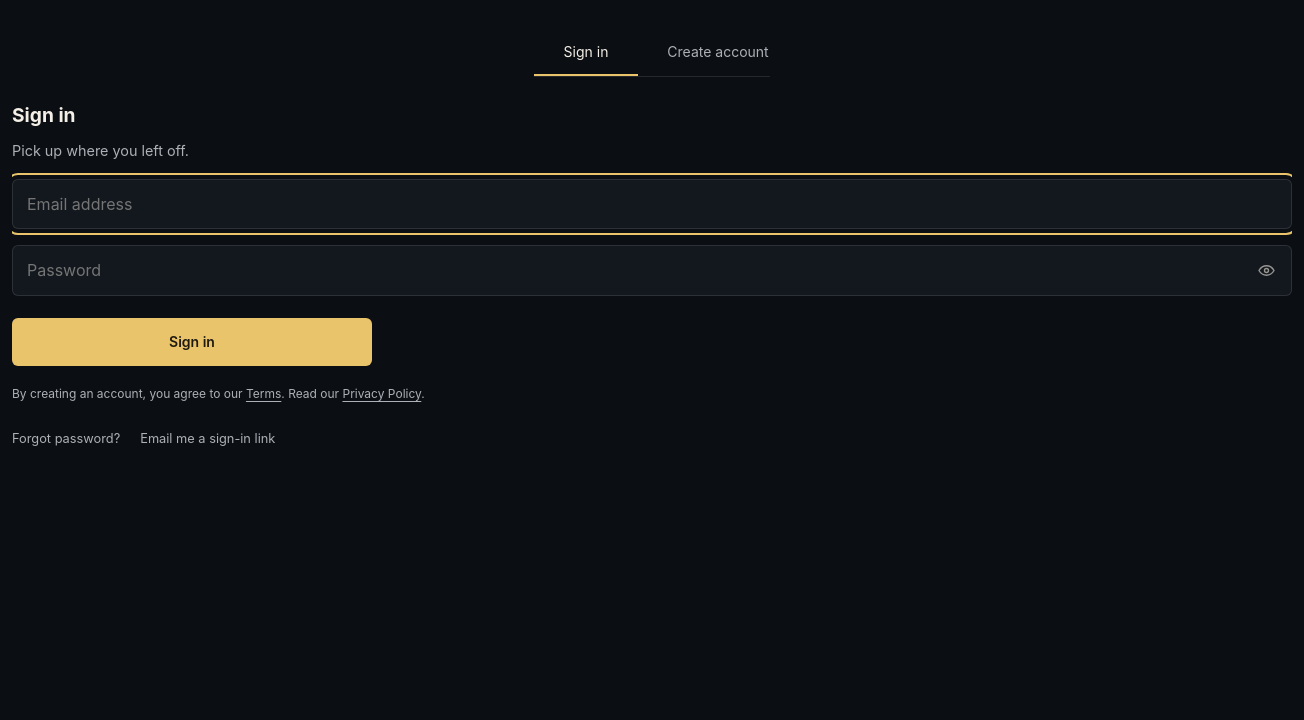
Test case: switching auth states clears the previous error
This screenshot has width=1304, height=720.
Type "viewer@example.com" into the field labelled "Email address" at (652, 204), box [12,178,1292,229]
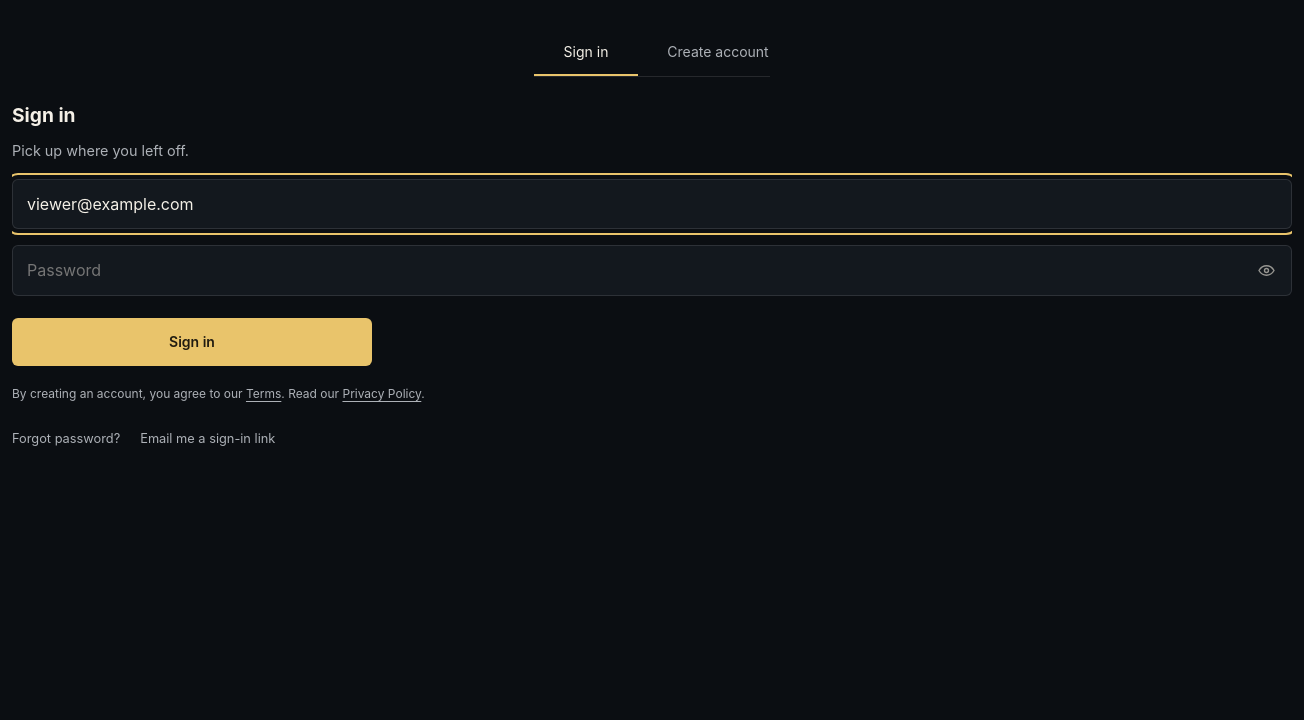
Type "password1" into the password field labelled "Password" at (652, 271), box [12,245,1292,296]
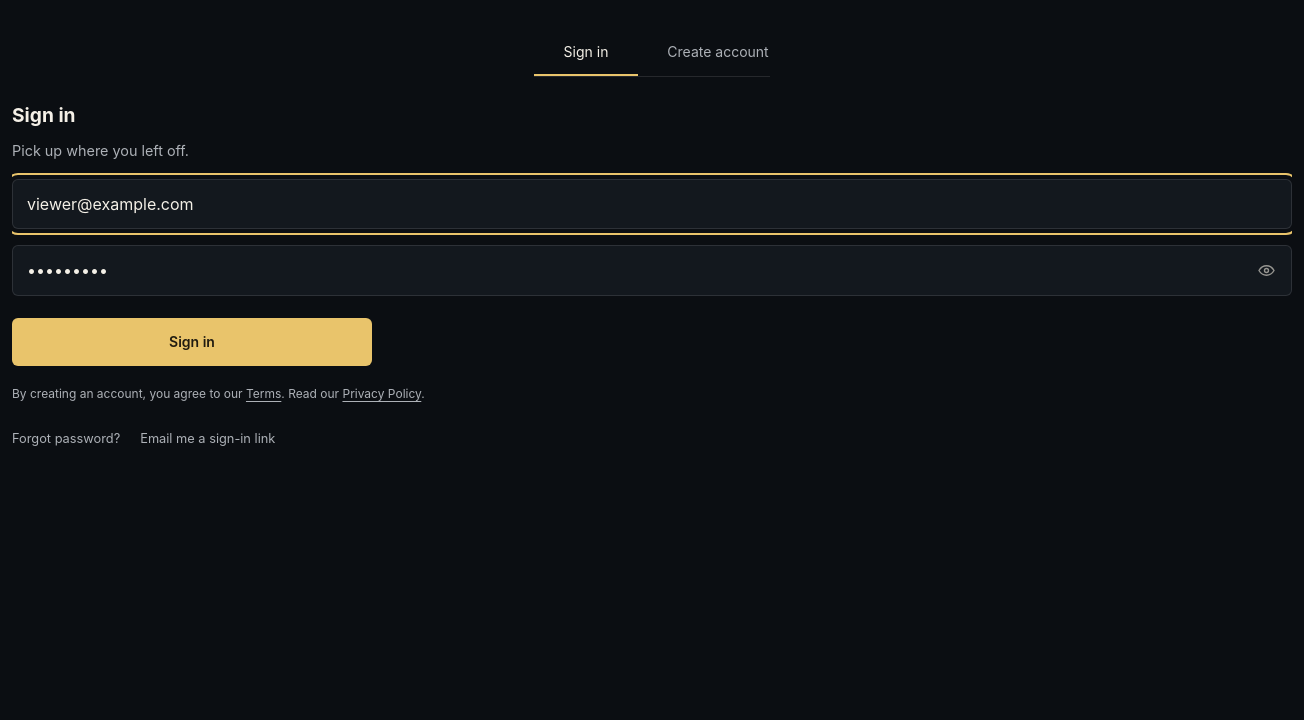
Click the button "Sign in" at (192, 342), box [12,318,372,366]
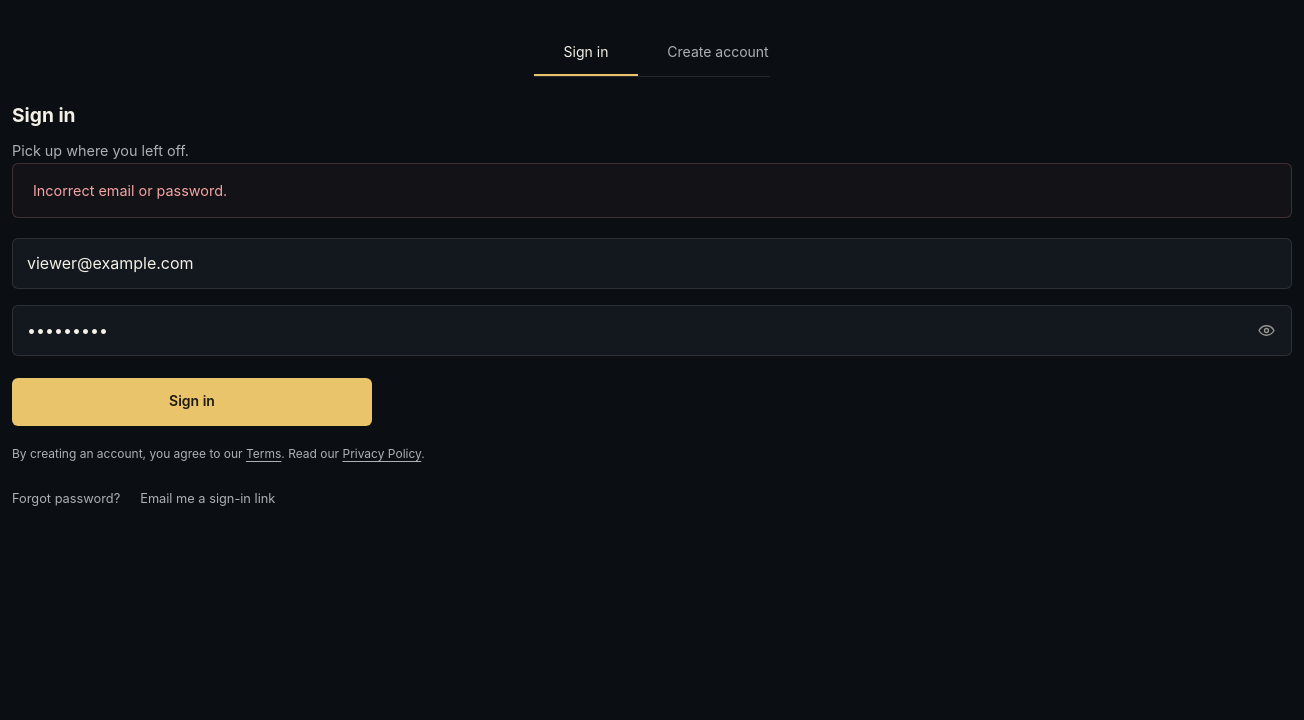
Now the text "Incorrect email or password." is shown, box [12,162,1292,218]
Click the tab "Create account" at (718, 52), box [666,28,770,76]
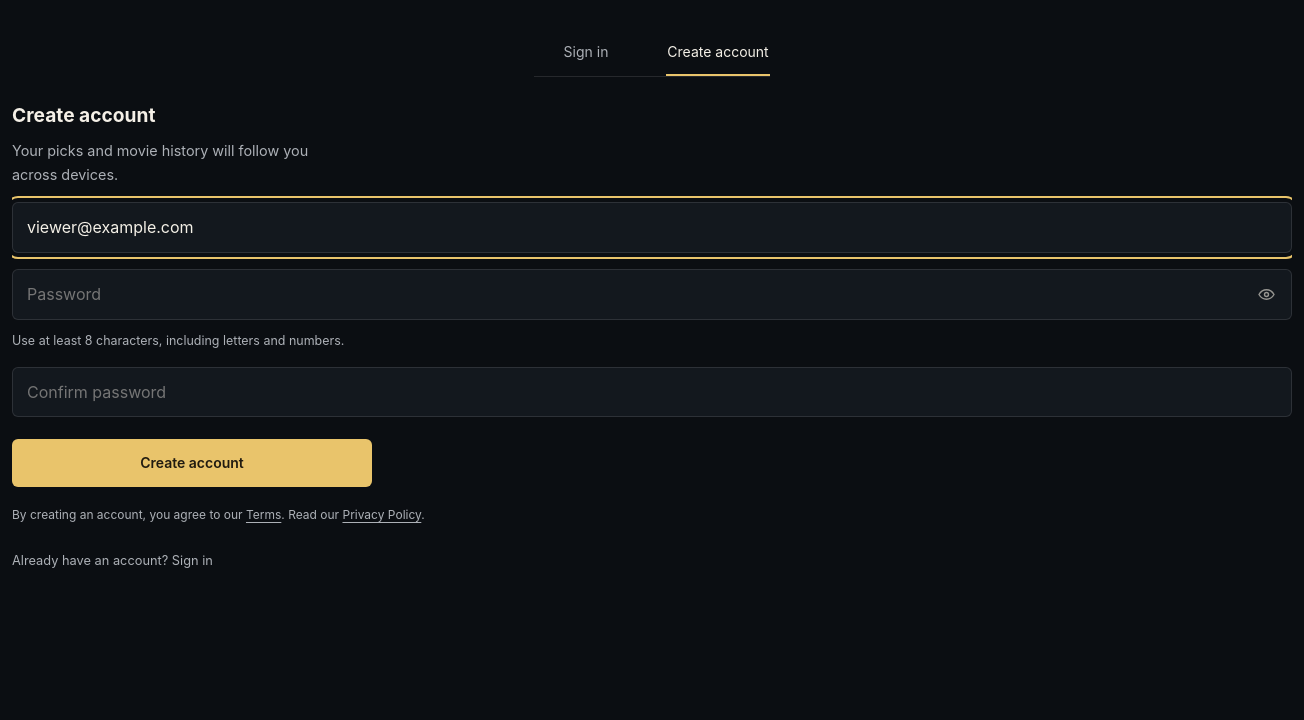
Now the text "Incorrect email or password." is gone
